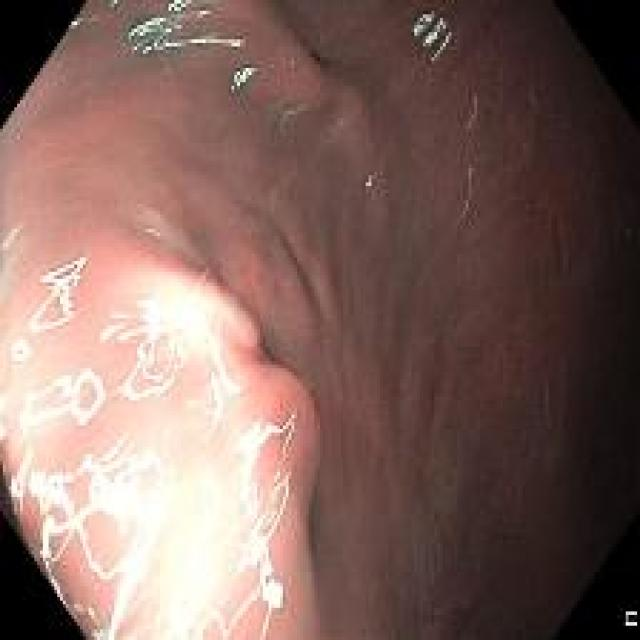blur: (1, 1, 637, 637)
color misalignment: (624, 612, 638, 626)
contrast: (584, 386, 636, 577), (619, 117, 637, 571)
saturation: (91, 273, 284, 638)
specularity: (18, 368, 106, 435), (28, 470, 74, 577), (27, 254, 89, 333), (128, 14, 242, 56), (411, 11, 451, 63), (74, 453, 92, 562), (261, 406, 297, 456), (202, 374, 225, 443), (272, 465, 292, 539), (9, 445, 33, 498), (230, 64, 256, 93), (99, 322, 124, 342), (11, 339, 31, 362), (166, 0, 192, 14), (0, 394, 7, 444), (361, 172, 373, 191), (65, 19, 83, 30), (195, 7, 209, 20)
